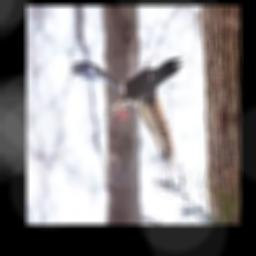Woodpecker: (70, 58, 182, 179)
